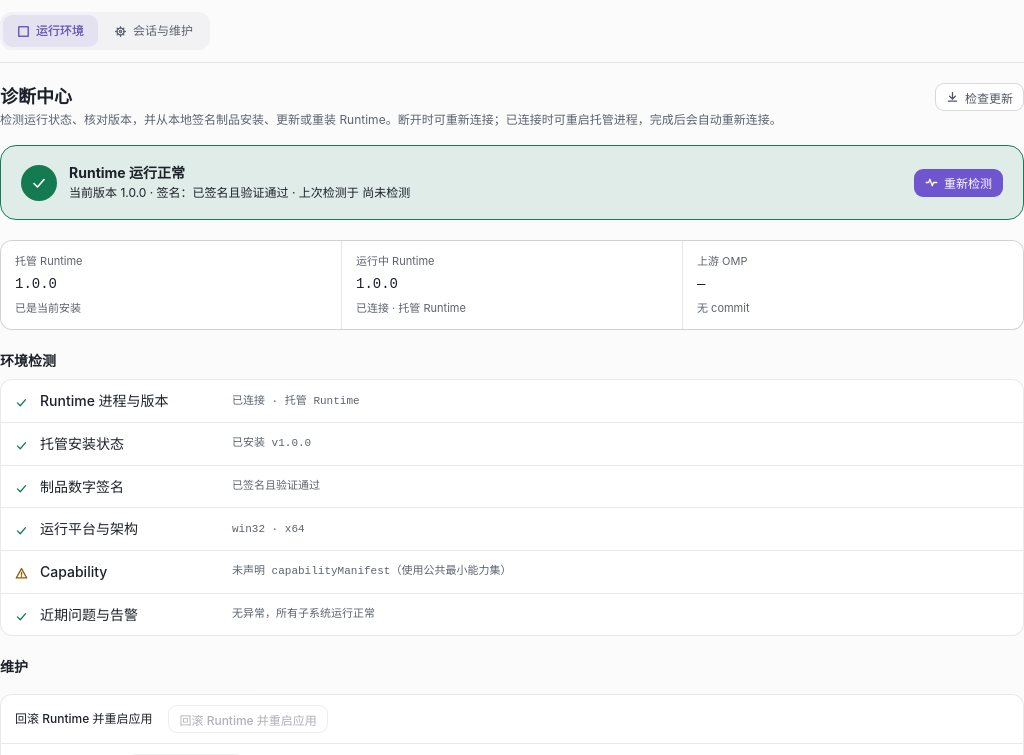
it: Runtime update compatibility › reports a blocked manual check rather than announcing an installable update
Click the button "检查更新": (980, 97) [935, 83, 1023, 111]
(page scrolled)
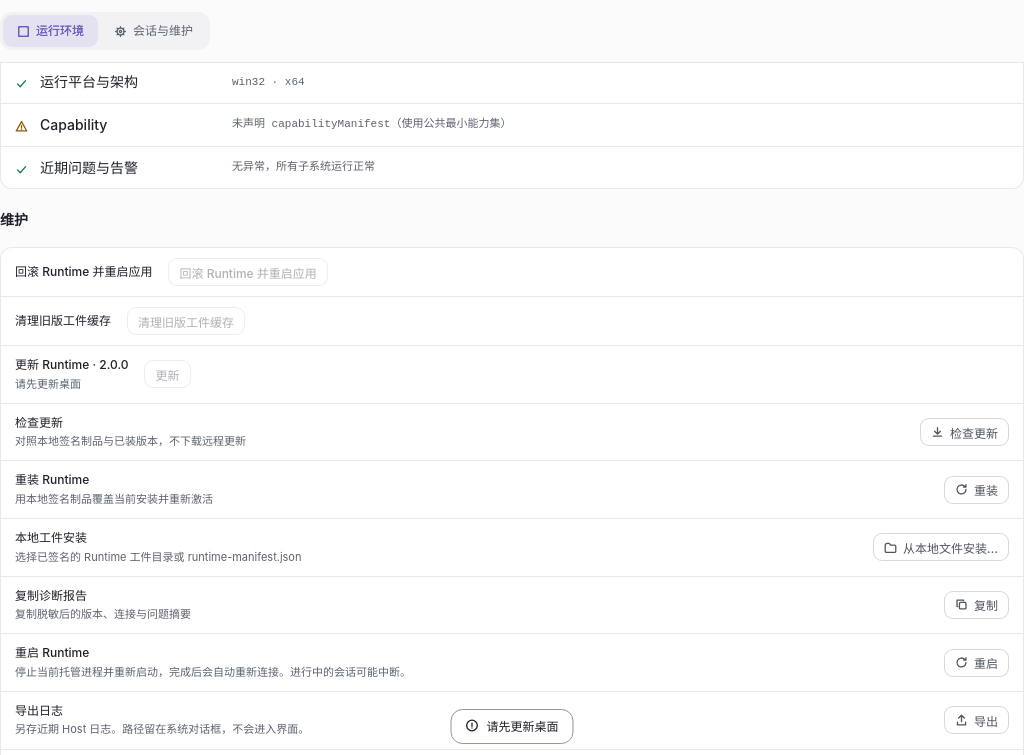
Check: the text "请先更新桌面" below "2.0.0" is shown, box [15, 377, 81, 391]
